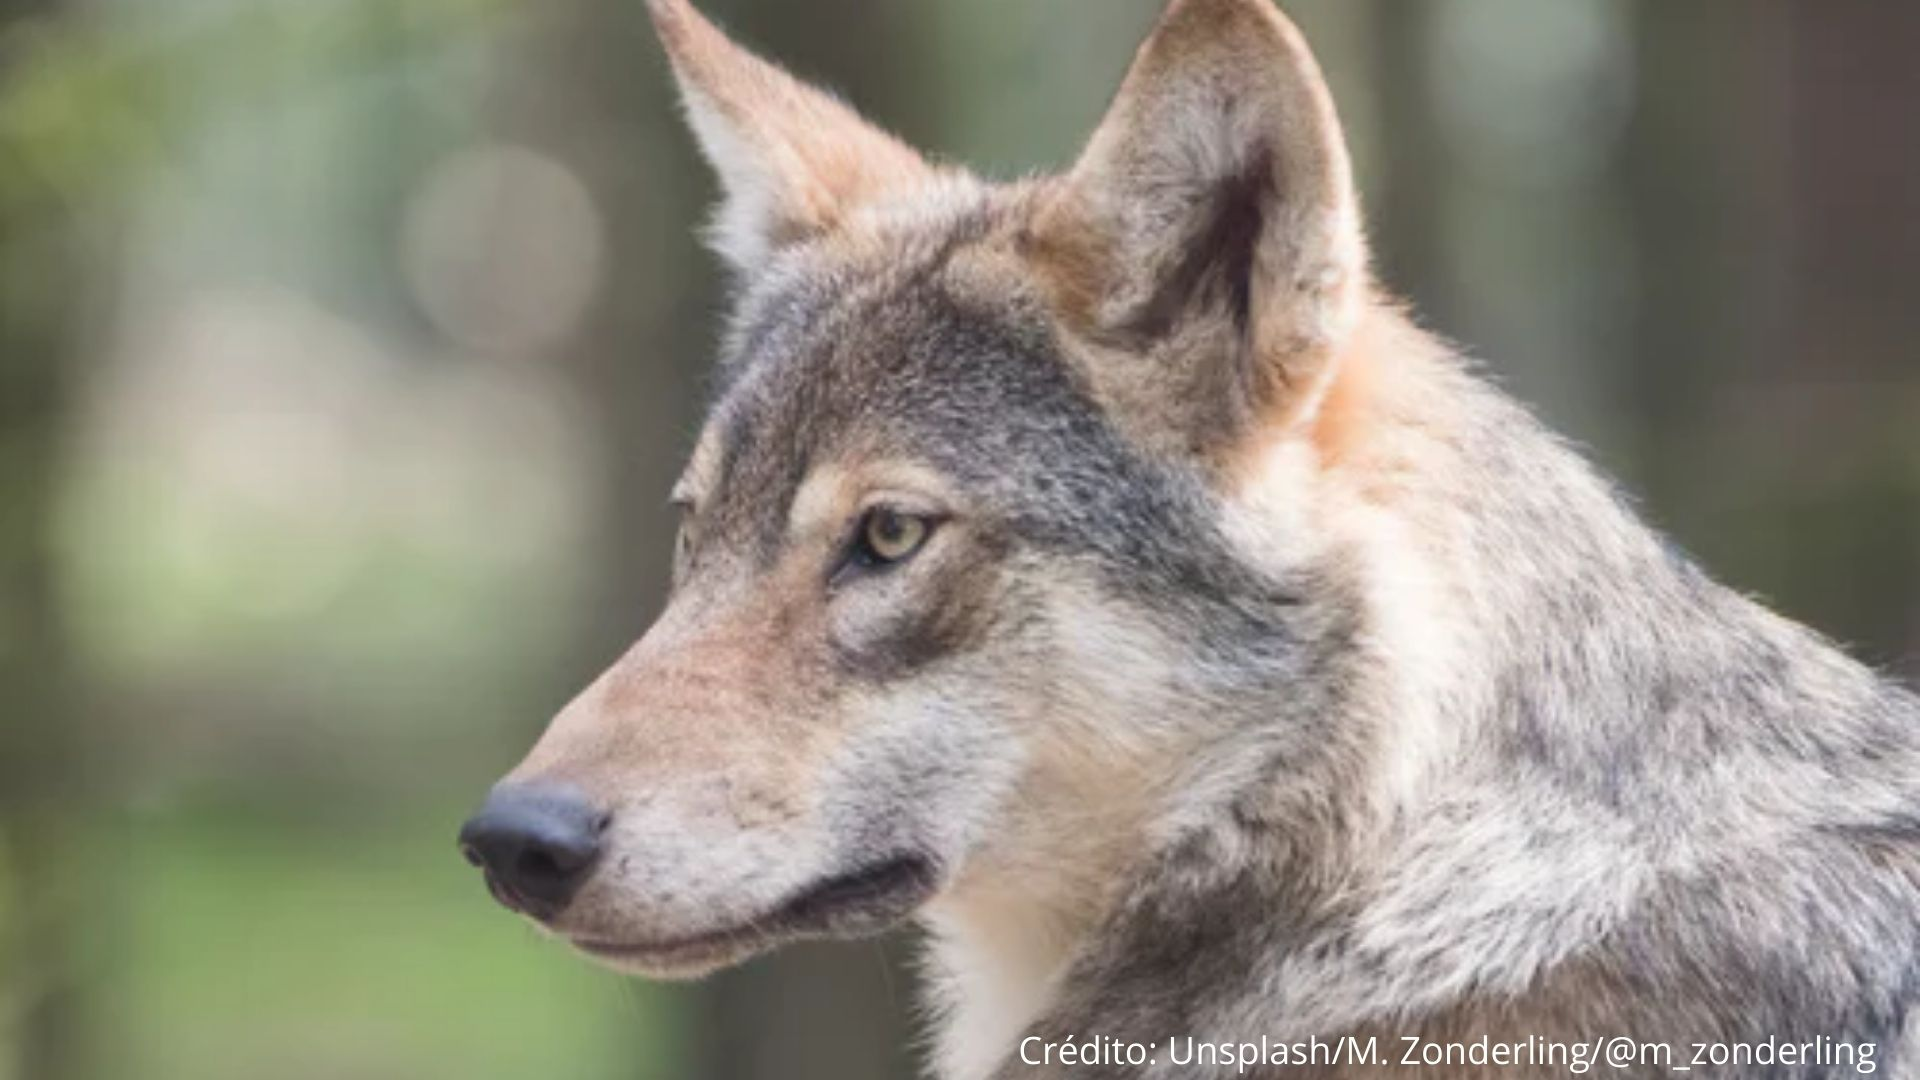Lobo: (442, 4, 1815, 1044)
